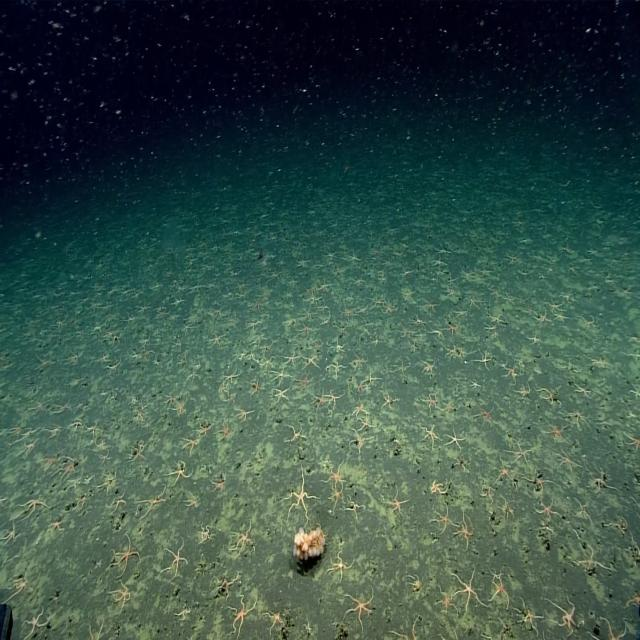brittle-stars: (568, 541, 616, 577), (287, 469, 313, 520), (228, 594, 258, 637), (343, 590, 375, 630), (453, 572, 482, 612), (549, 596, 577, 631), (111, 538, 139, 573), (164, 542, 188, 578), (329, 550, 354, 584), (139, 486, 167, 516), (232, 522, 256, 556), (518, 601, 541, 635), (25, 606, 49, 637), (599, 616, 630, 640), (110, 580, 132, 611), (454, 516, 474, 550), (510, 441, 535, 468), (586, 466, 610, 494), (384, 486, 406, 516), (22, 492, 49, 516), (8, 572, 30, 601), (169, 458, 192, 484), (432, 507, 453, 535), (490, 579, 510, 608), (535, 384, 559, 408), (439, 588, 458, 616), (543, 418, 564, 443), (266, 608, 285, 635), (349, 431, 371, 454), (558, 449, 578, 474), (534, 498, 556, 520), (446, 429, 466, 453), (330, 458, 347, 486), (495, 458, 513, 483), (573, 499, 591, 524), (476, 404, 496, 426), (422, 423, 439, 448), (1, 523, 18, 548), (567, 410, 588, 430), (60, 457, 78, 480), (347, 495, 364, 519), (287, 422, 306, 443), (129, 444, 147, 465), (624, 431, 640, 454), (327, 482, 343, 505), (181, 436, 200, 455), (429, 477, 447, 497), (50, 516, 67, 537), (235, 406, 254, 424), (422, 392, 439, 412), (395, 364, 412, 384), (332, 485, 346, 509), (216, 419, 231, 441), (195, 527, 210, 549), (274, 385, 292, 403), (392, 358, 409, 377), (273, 367, 290, 386), (326, 388, 342, 408), (211, 475, 227, 495), (332, 336, 348, 356), (200, 524, 215, 545), (627, 585, 640, 609), (329, 359, 346, 377), (301, 353, 318, 371), (224, 369, 242, 386), (326, 364, 343, 382), (183, 493, 200, 511), (420, 357, 436, 376), (504, 362, 520, 381), (357, 414, 373, 433), (477, 350, 492, 370), (210, 332, 226, 350), (248, 377, 264, 395), (298, 373, 314, 391), (198, 420, 214, 438), (516, 384, 532, 402), (382, 390, 396, 410), (313, 388, 327, 408), (352, 403, 368, 420), (442, 399, 457, 417), (351, 352, 366, 370), (173, 398, 187, 417), (444, 322, 458, 341), (489, 312, 505, 328), (422, 299, 438, 315), (133, 406, 147, 424), (428, 328, 444, 343), (317, 279, 332, 295), (284, 350, 298, 367), (263, 353, 277, 369), (164, 391, 178, 407), (355, 378, 367, 394), (94, 436, 106, 451), (98, 438, 109, 454), (100, 451, 112, 465)
